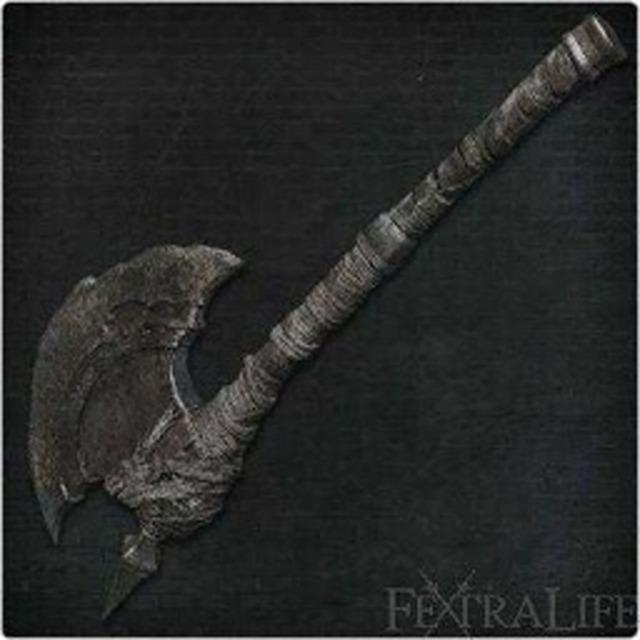ax: (18, 2, 640, 634)
